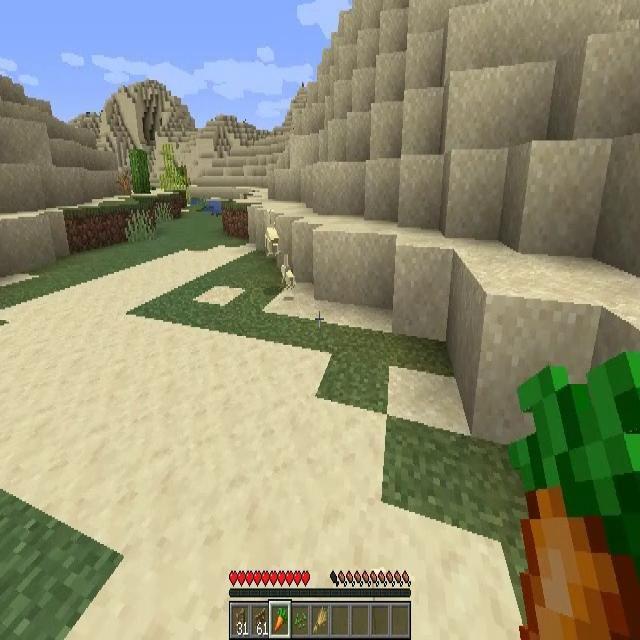rabbit: (266, 210, 280, 256), (280, 255, 296, 289)
